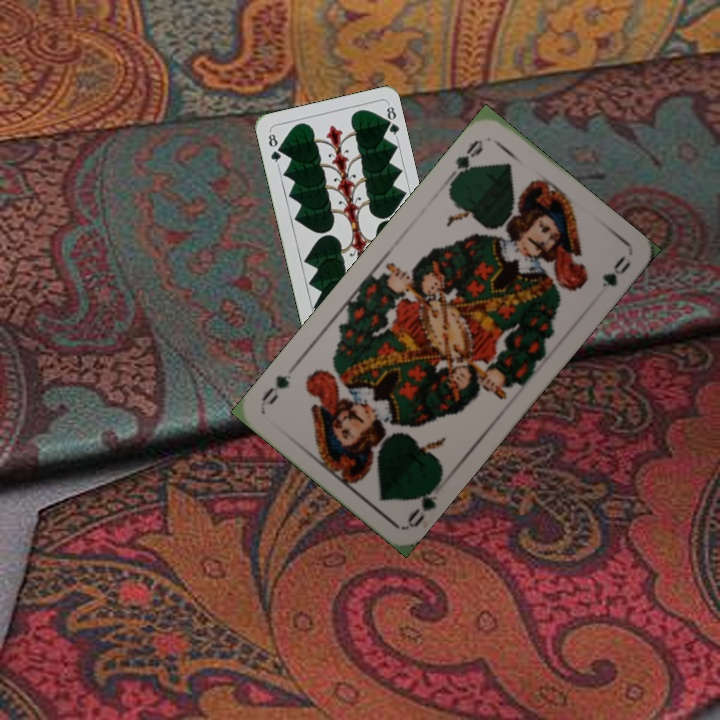G8: (264, 128, 284, 168)
GO: (403, 476, 444, 530), (443, 135, 486, 185)
